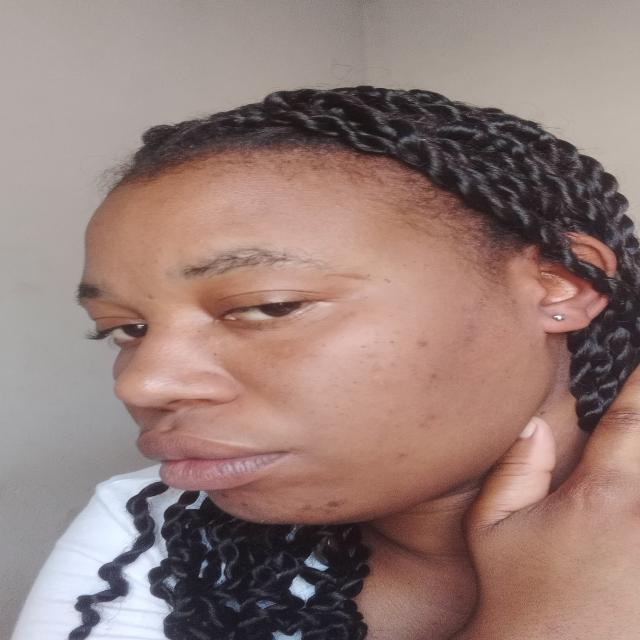Acne: (411, 412, 438, 431), (355, 340, 395, 350), (424, 369, 440, 385), (322, 500, 343, 510), (393, 450, 411, 460), (415, 339, 432, 349), (347, 378, 359, 388), (217, 492, 232, 498), (301, 503, 313, 510), (237, 501, 250, 507), (356, 358, 364, 366)
Eyebags: (218, 307, 336, 341)
